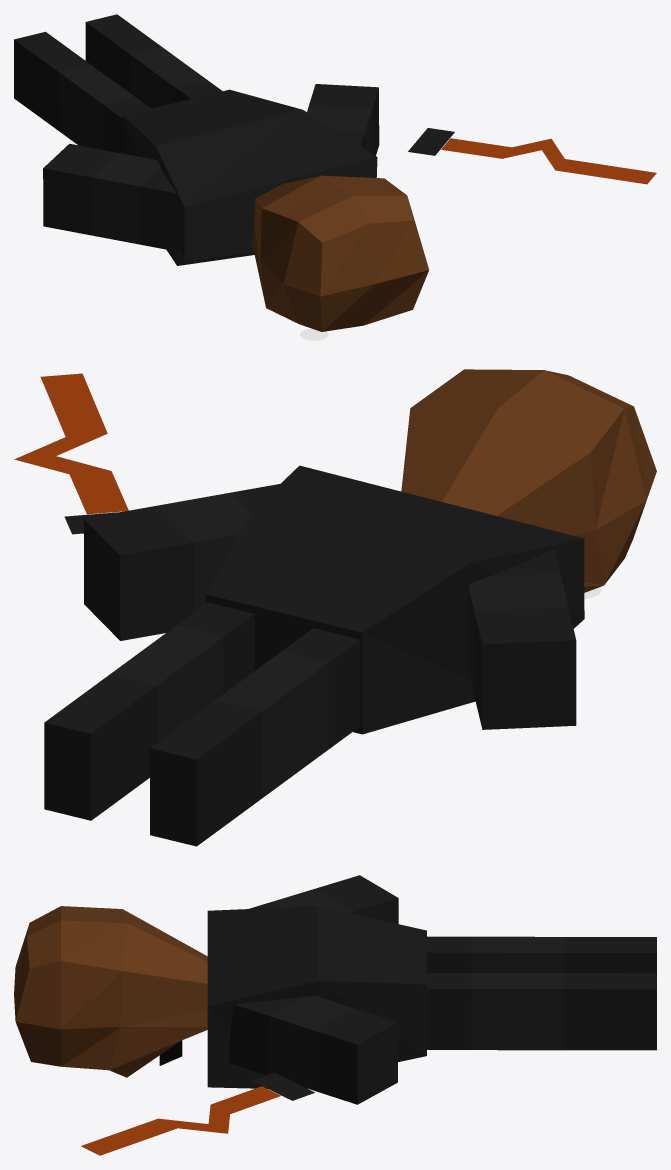
Rendered from swordsman3d.obj.
3 views of the same model, one above another, from view 1: azimuth 30°, elevation 25°; view 2: azimuth 150°, elevation 25°; view 3: azimuth 270°, elevation 25° (orthographic). The views are drawn at different scales.
Visible parts, largest first — view 1: Cube.001, Cube, Cube.003, Cube.004, Cube.005, Cube.002, Plane.003_Plane.004, Plane.002_Plane.003; view 2: Cube.001, Cube, Cube.004, Cube.005, Cube.002, Cube.003, Plane.003_Plane.004; view 3: Cube, Cube.001, Cube.005, Cube.002, Cube.004, Cube.003, Plane.003_Plane.004, Plane.002_Plane.003.
Part boxes in pixels (left/top/right/bottom): Cube.001: left=123, top=89, right=377, bottom=265; Cube: left=252, top=175, right=428, bottom=331; Cube.003: left=43, top=143, right=179, bottom=251; Cube.004: left=14, top=31, right=150, bottom=153; Cube.005: left=85, top=14, right=222, bottom=108; Cube.002: left=307, top=84, right=379, bottom=155; Plane.003_Plane.004: left=441, top=138, right=656, bottom=184; Plane.002_Plane.003: left=408, top=128, right=454, bottom=155; Cube.001: left=205, top=465, right=584, bottom=734; Cube: left=401, top=369, right=656, bottom=592; Cube.004: left=150, top=628, right=360, bottom=846; Cube.005: left=44, top=602, right=254, bottom=820; Cube.002: left=84, top=484, right=279, bottom=640; Cube.003: left=467, top=549, right=576, bottom=729; Plane.003_Plane.004: left=14, top=373, right=128, bottom=514; Cube: left=14, top=906, right=207, bottom=1077; Cube.001: left=207, top=906, right=426, bottom=1088; Cube.005: left=427, top=973, right=656, bottom=1050; Cube.002: left=229, top=996, right=397, bottom=1104; Cube.004: left=427, top=936, right=656, bottom=973; Cube.003: left=249, top=875, right=398, bottom=923; Plane.003_Plane.004: left=81, top=1086, right=280, bottom=1155; Plane.002_Plane.003: left=252, top=1072, right=314, bottom=1100.
Bounding box in the file's own units: 5.33 × 1.58 × 5.86.
